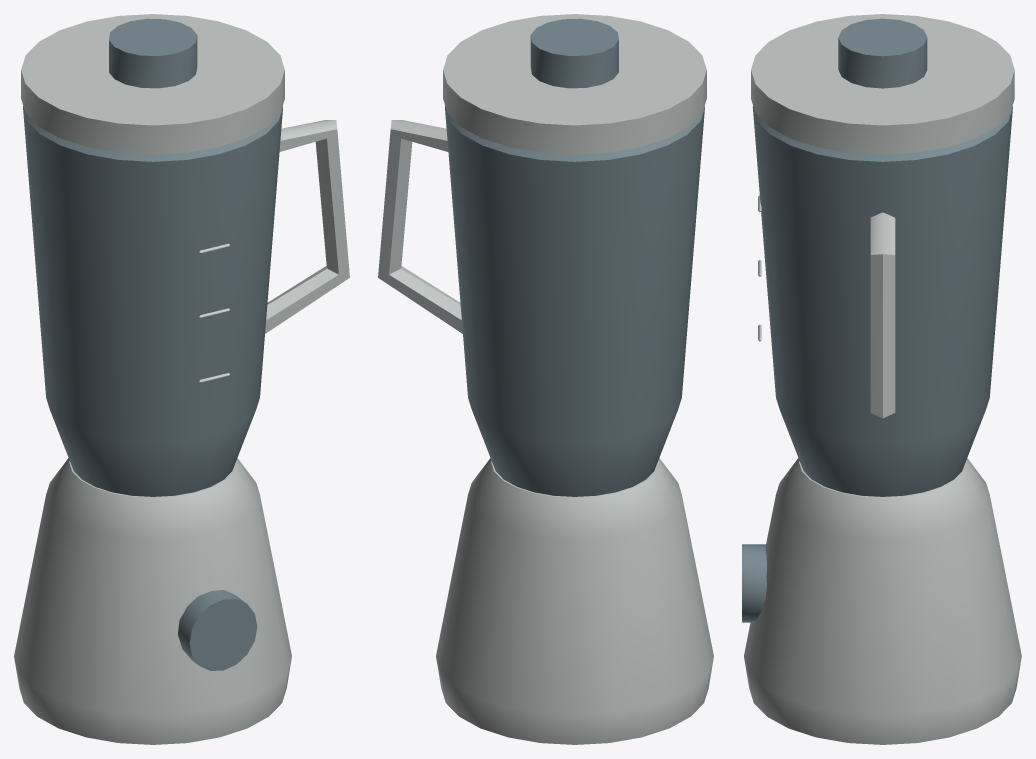
Rendered from kitchen-blender.glb.
3 renders of one model, left to right at view 1: azimuth 30°, elevation 25°; view 2: azimuth 150°, elevation 25°; view 3: azimuth 270°, elevation 25°, orthographic.
Parts seen in each view (by area): view 1: glass_pitcher, motor_base, lid, pitcher_handle, lid_plug, speed_dial; view 2: glass_pitcher, motor_base, lid, pitcher_handle, lid_plug; view 3: glass_pitcher, motor_base, lid, lid_plug, pitcher_handle, speed_dial.
Part boxes in pixels (<box>): glass_pitcher: <box>23,106,282,496</box>; motor_base: <box>14,458,291,744</box>; lid: <box>21,14,284,154</box>; pitcher_handle: <box>265,120,349,333</box>; lid_plug: <box>109,18,197,88</box>; speed_dial: <box>178,590,257,670</box>; glass_pitcher: <box>445,106,704,496</box>; motor_base: <box>436,458,713,744</box>; lid: <box>443,14,706,154</box>; pitcher_handle: <box>378,120,462,333</box>; lid_plug: <box>530,18,618,88</box>; glass_pitcher: <box>752,106,1012,496</box>; motor_base: <box>744,458,1021,744</box>; lid: <box>751,14,1014,154</box>; lid_plug: <box>838,18,927,88</box>; pitcher_handle: <box>870,212,895,418</box>; speed_dial: <box>742,544,766,622</box>.
Bounding box in the file's own units: 0.2052 × 0.403 × 0.157.
